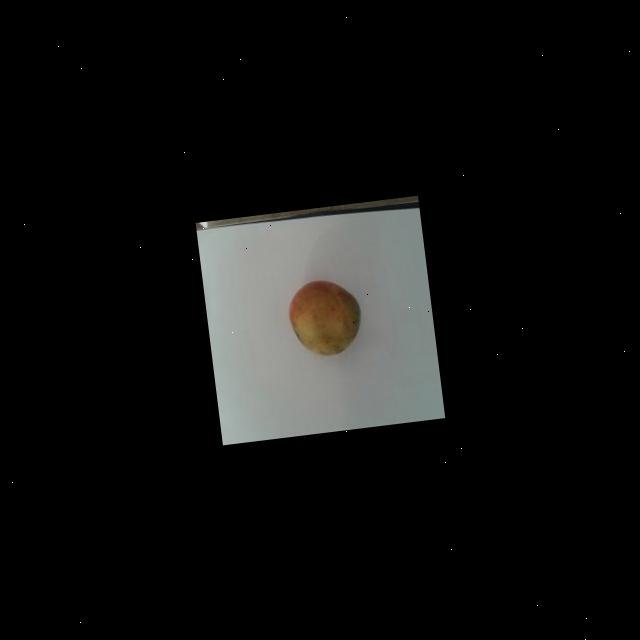Mango: (285, 274, 366, 360)
